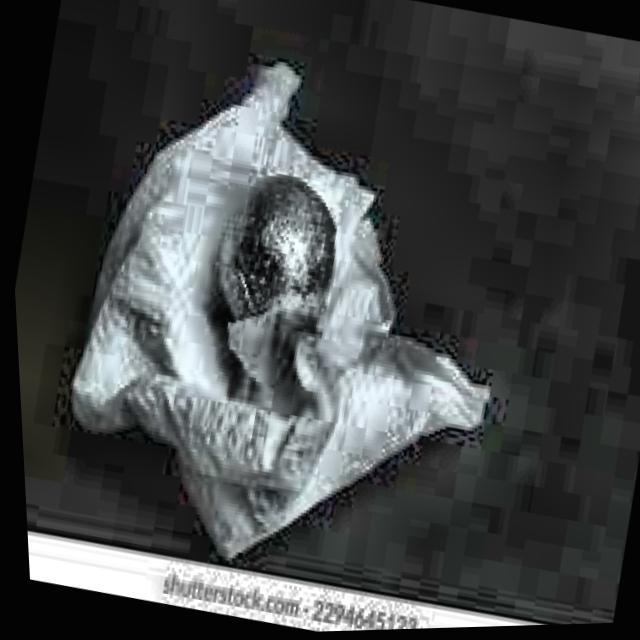Foil: (187, 150, 366, 368)
